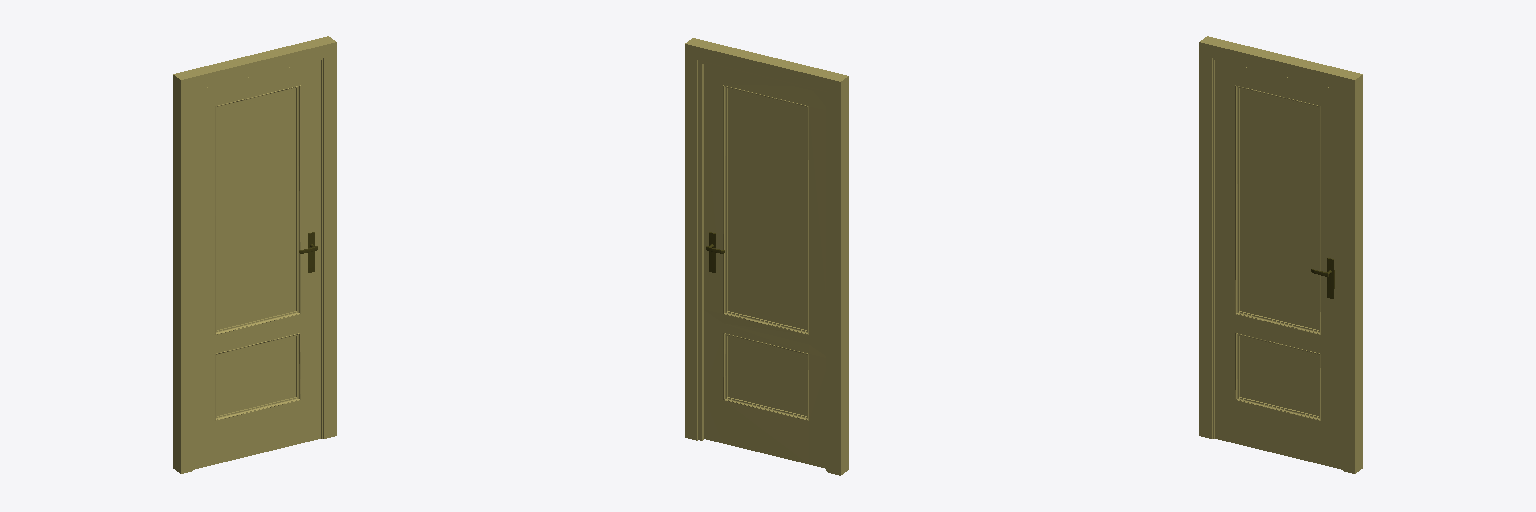
The model's file is door_3.obj.
3 renders of one model, left to right at view 1: azimuth 30°, elevation 25°; view 2: azimuth 150°, elevation 25°; view 3: azimuth 330°, elevation 25°, orthographic.
Visible parts, largest first — view 1: door_Mesh, marc_Cube; view 2: door_Mesh, marc_Cube; view 3: door_Mesh, marc_Cube.
Boxes of the visible parts, box(x1,y1,x2,y2) form: door_Mesh: box(194, 60, 320, 469); marc_Cube: box(173, 36, 336, 473); door_Mesh: box(704, 64, 825, 468); marc_Cube: box(685, 38, 848, 475); door_Mesh: box(1215, 60, 1341, 469); marc_Cube: box(1199, 36, 1362, 473).
Bounding box in the file's own units: 0.8738 × 2.11 × 0.1381.